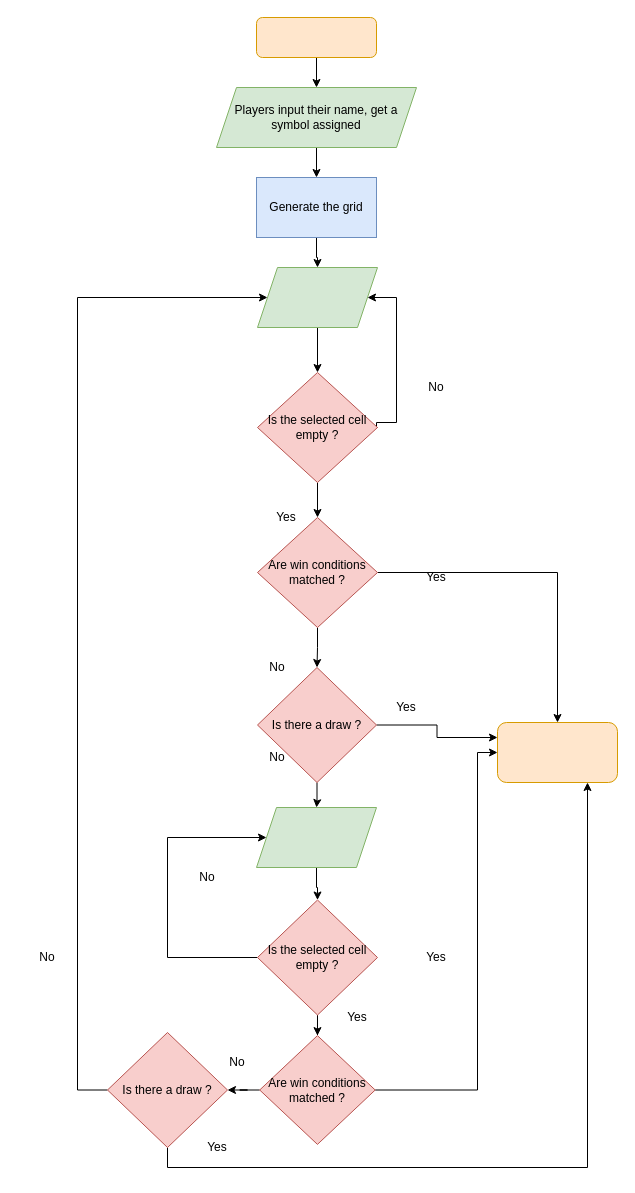
The diagram is 635 pixels wide and 1193 high, and some of its shapes have lost their labels. Here are the shapes that lost their labels. From the top down, the box of each, then its label:
(256, 16, 376, 58): Game starts
(256, 266, 378, 328): Player 1 plays
(496, 722, 618, 782): End of the game
(256, 806, 376, 868): Player 2 plays
